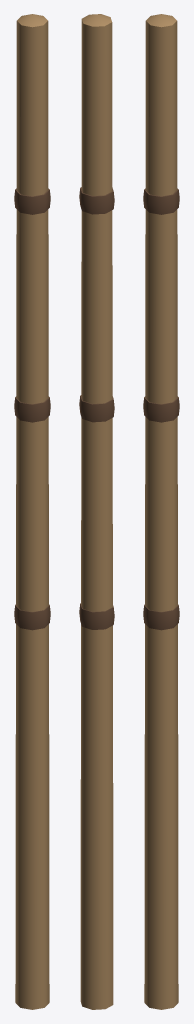
The model's file is baston-fighting-stick.glb.
3 renders of one model, left to right at view 1: azimuth 90°, elevation 25°; view 2: azimuth 210°, elevation 25°; view 3: azimuth 270°, elevation 25°, orthographic.
Parts seen in each view (by area): view 1: baston-fighting-stick; view 2: baston-fighting-stick; view 3: baston-fighting-stick.
Part boxes in pixels (x1,y1,x2,y2): baston-fighting-stick: (14,14,50,1009); baston-fighting-stick: (79,14,114,1009); baston-fighting-stick: (143,14,179,1009).
Bounding box in the file's own units: 0.056 × 1.67 × 0.056.
